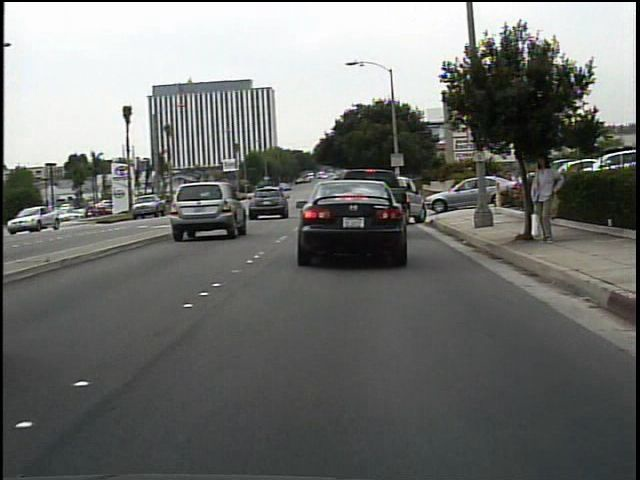person: (527, 149, 567, 247)
